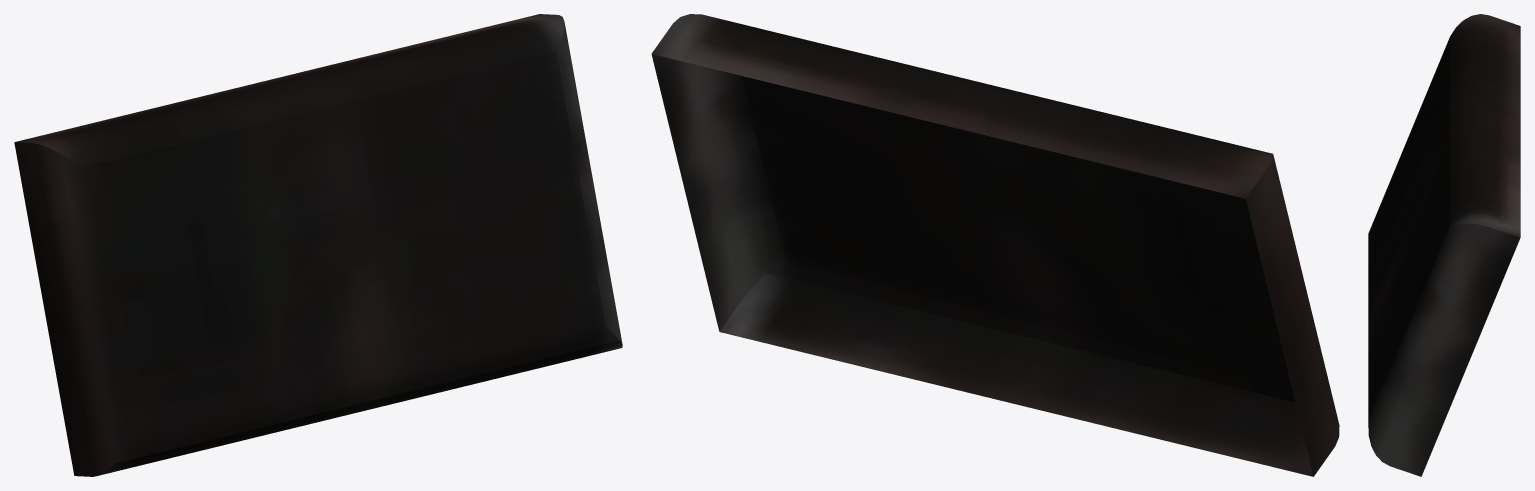
Rendered from link_2__button-3.glb.
3 views of the same model, side by side, from view 1: azimuth 30°, elevation 25°; view 2: azimuth 150°, elevation 25°; view 3: azimuth 270°, elevation 25° (orthographic). The views are drawn at different scales.
Visible parts, largest first — view 1: geometry_0; view 2: geometry_0; view 3: geometry_0.
Part boxes in pixels (bbox=[...]): geometry_0: bbox=[14, 14, 622, 476]; geometry_0: bbox=[651, 14, 1339, 476]; geometry_0: bbox=[1368, 14, 1520, 476].
Bounding box in the file's own units: 0.0354 × 0.0197 × 0.0108.
1 material, 1 textured.
